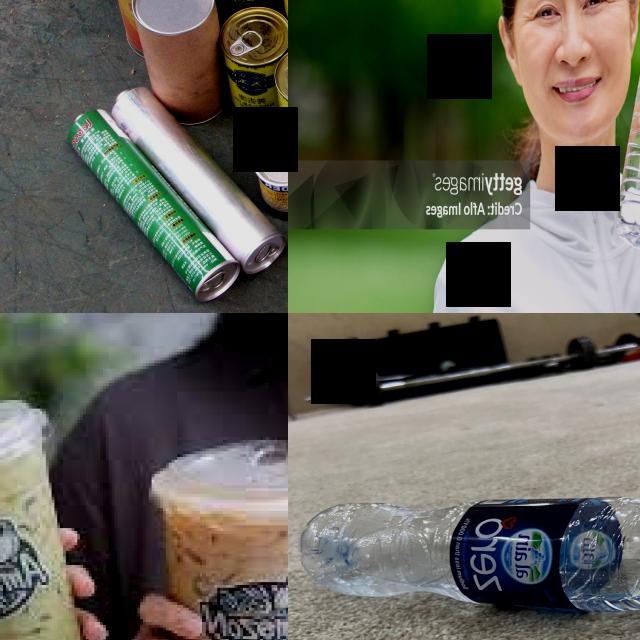bottle: (297, 491, 640, 617), (612, 0, 640, 249)
cup: (146, 436, 288, 640), (0, 398, 90, 640)
